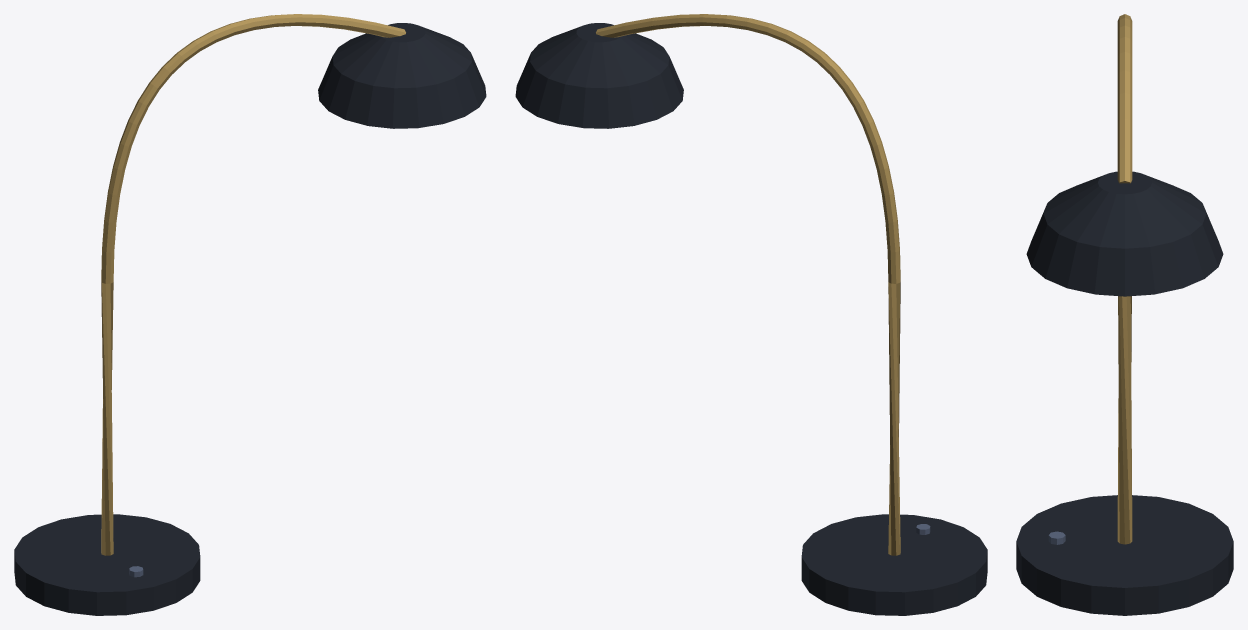
File: res_arc_floor_lamp.glb
3 views of the same model, side by side, from view 1: azimuth 30°, elevation 25°; view 2: azimuth 150°, elevation 25°; view 3: azimuth 270°, elevation 25° (orthographic). The views are drawn at different scales.
Visible parts, largest first — view 1: spun_metal_shade, arched_brass_stem; view 2: spun_metal_shade, arched_brass_stem; view 3: spun_metal_shade, arched_brass_stem.
Part boxes in pixels (x1=…): spun_metal_shade: x1=14, y1=23, x2=486, y2=615; arched_brass_stem: x1=101, y1=14, x2=405, y2=555; spun_metal_shade: x1=515, y1=23, x2=987, y2=615; arched_brass_stem: x1=596, y1=14, x2=900, y2=555; spun_metal_shade: x1=1016, y1=171, x2=1233, y2=615; arched_brass_stem: x1=1117, y1=14, x2=1132, y2=544.
Size of the model in its own units: 1.8 by 2 by 0.64.
